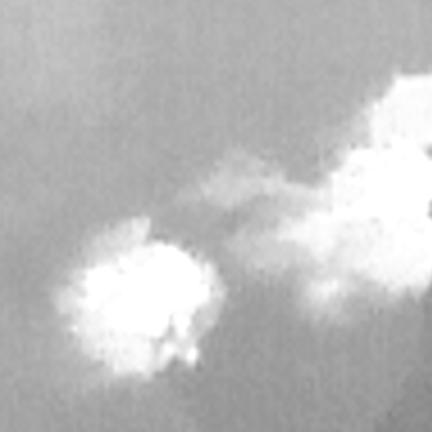flukeprints: (247, 74, 431, 314), (58, 219, 223, 378)
